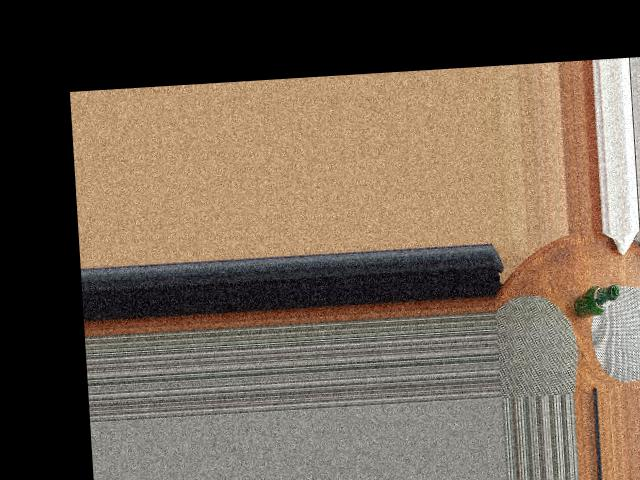beer: (572, 284, 620, 318)
